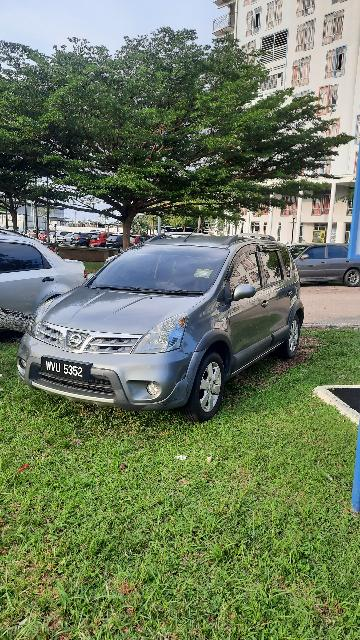License_Plate: (39, 355, 100, 386)
car: (24, 231, 308, 419), (2, 225, 103, 344), (280, 237, 360, 289)
